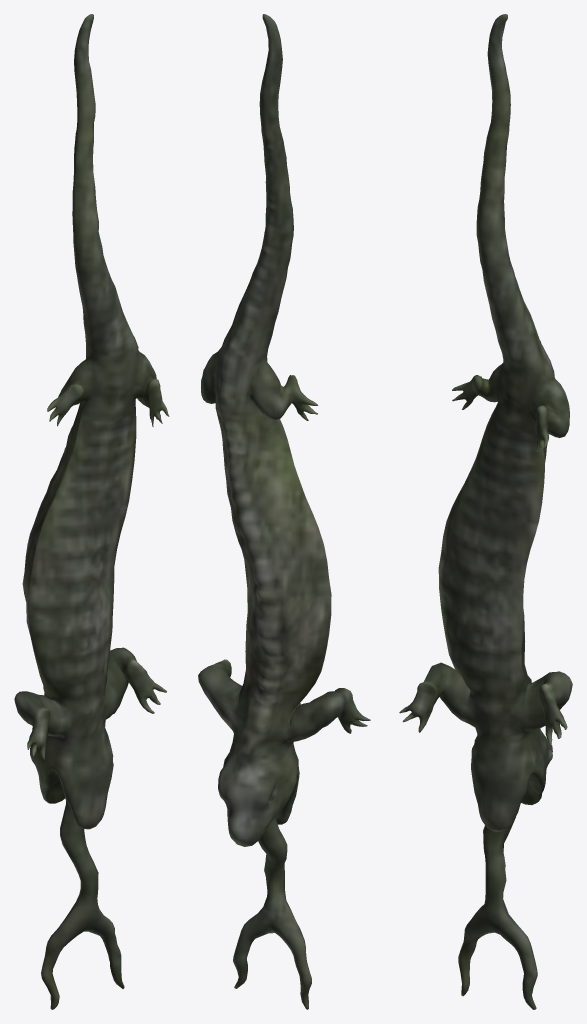
The model's file is weapon-wp_a_0636.glb.
3 views of the same model, side by side, from view 1: azimuth 30°, elevation 25°; view 2: azimuth 150°, elevation 25°; view 3: azimuth 330°, elevation 25° (orthographic).
Visible parts, largest first — view 1: wp_a_0636_mesh; view 2: wp_a_0636_mesh; view 3: wp_a_0636_mesh.
Part boxes in pixels (x1,y1,x2,y2): wp_a_0636_mesh: [14, 14, 169, 1009]; wp_a_0636_mesh: [198, 14, 370, 1009]; wp_a_0636_mesh: [399, 14, 572, 1009].
Bounding box in the file's own units: 0.2682 × 1.65 × 0.1714.
1 material, 1 textured.
